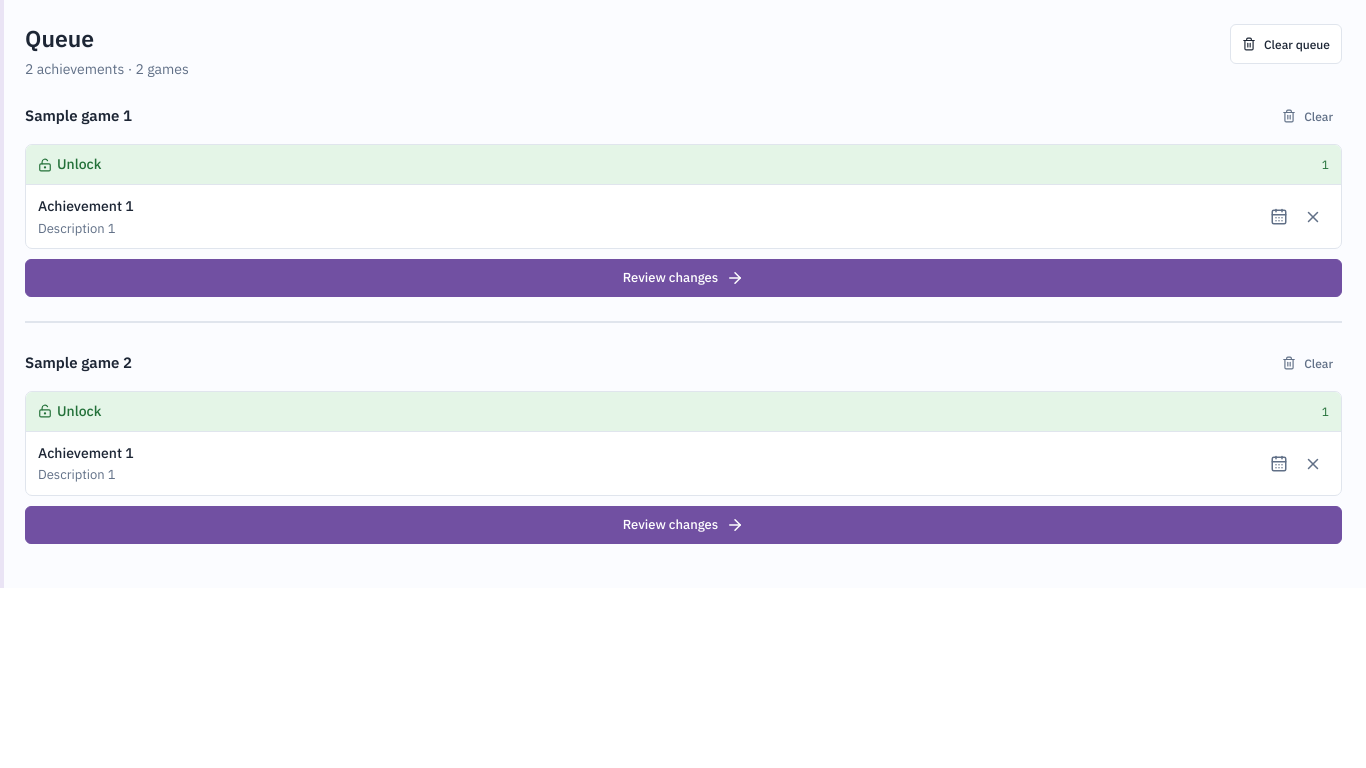
Test: hides an open date editor when its queue is cleared
The image size is (1366, 768).
Click the 1st button named "Edit date for Achievement 1".
click(1279, 218)  # box left=1263, top=202, right=1295, bottom=234
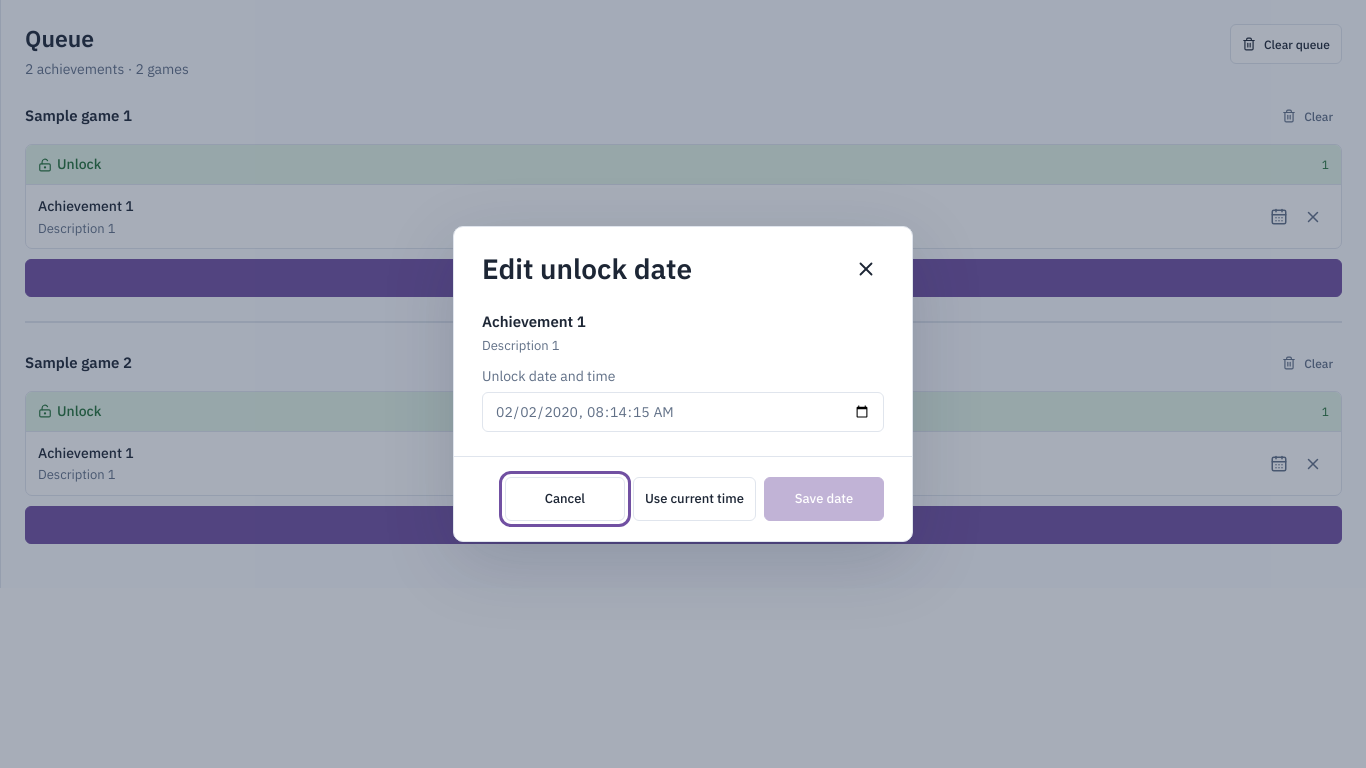
Check: the dialog "Edit unlock date" is shown, box left=453, top=226, right=913, bottom=542
